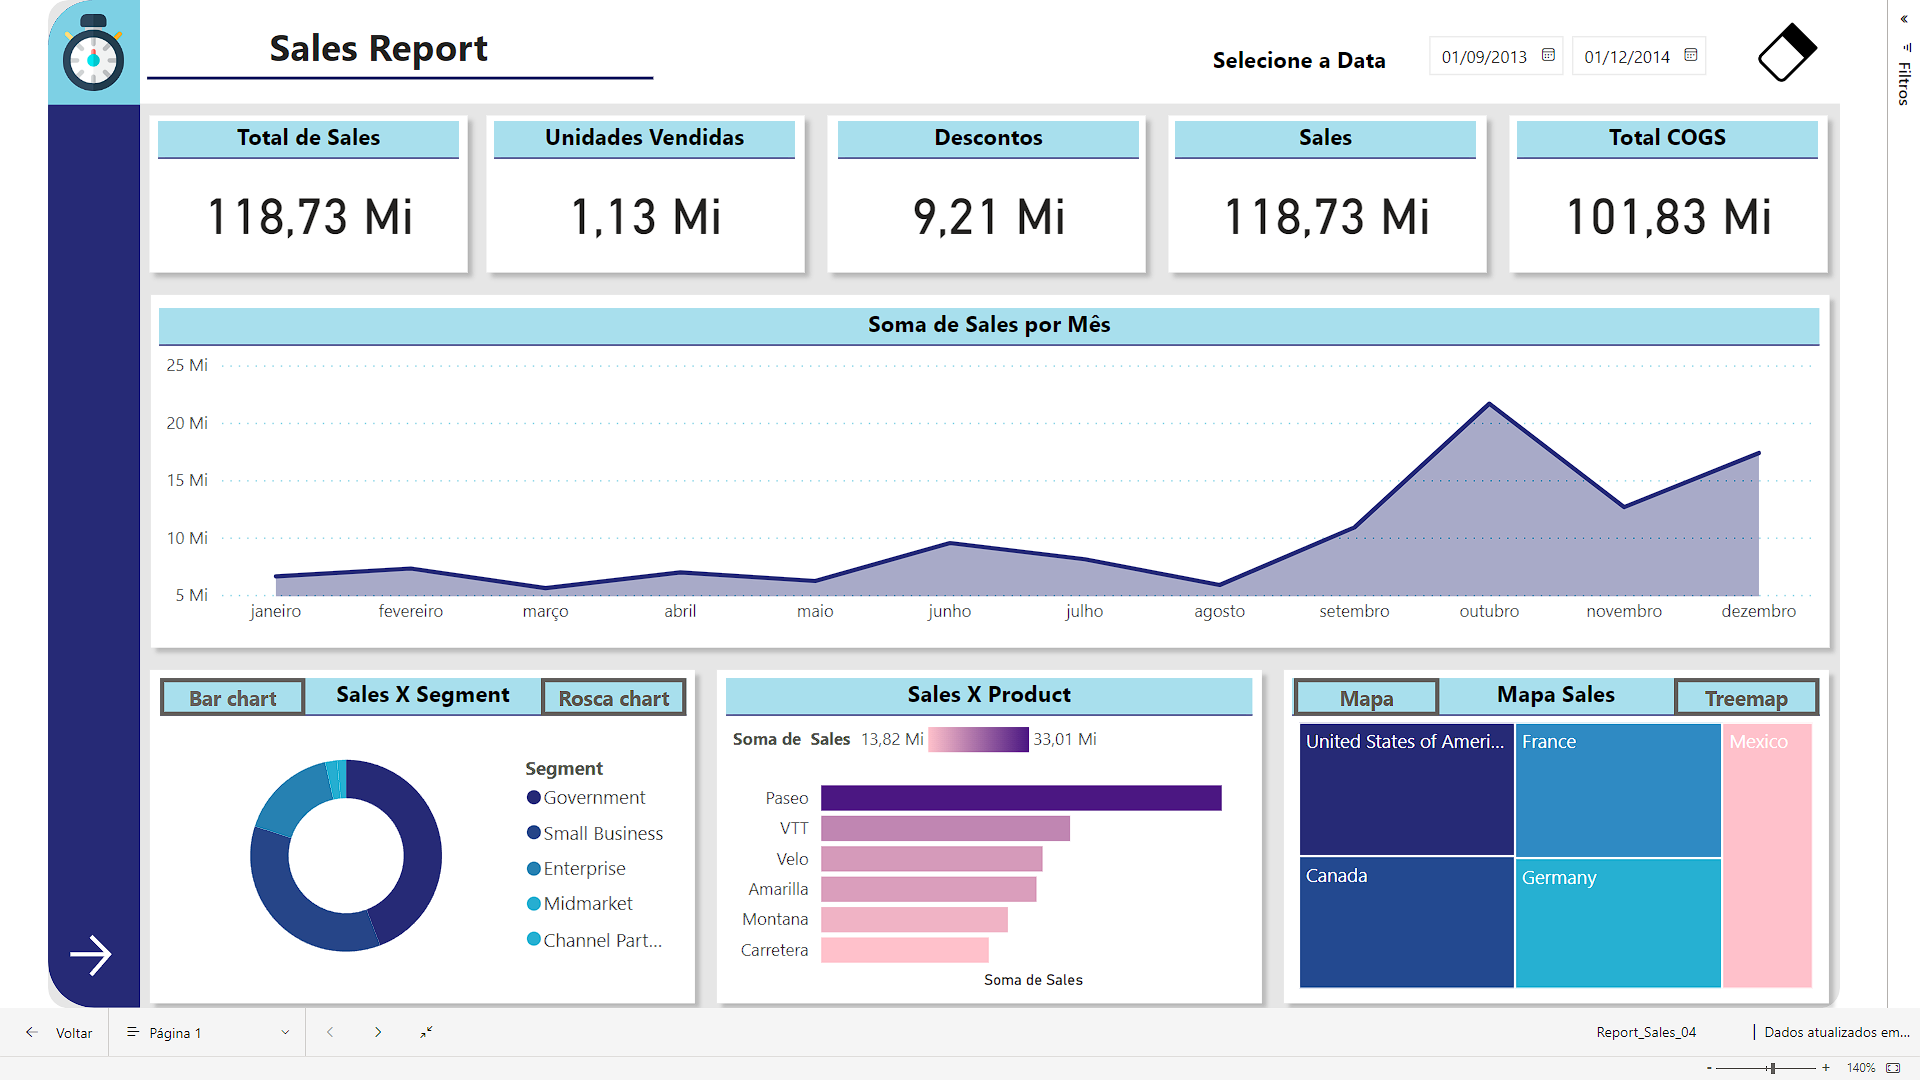

Layout of this report page (visuals, bound fields, positions):
{"tool":"powerbi","page":{"name":"Página 1","canvas":[1280,720],"ordinal":0},"visuals":[{"type":"shape","box":[0,0,1280,720.1],"z":0},{"type":"group","id":"g1","title":"Filtro data","box":[827.4,15.1,371.6,44.1],"z":0,"group":"g5"},{"type":"slicer","title":"Sales X Segment","fields":{"Values":["financials.Date"]},"box":[973.9,15.1,225.1,44.1],"z":0,"group":"g1"},{"type":"shape","box":[64.3,74.5,243.6,128.5],"z":0,"group":"g2"},{"type":"shape","box":[65.5,203.2,1214.5,267.5],"z":0,"group":"g4"},{"type":"shape","box":[65.4,471,404.9,253.6],"z":0,"group":"g3"},{"type":"clusteredBarChart","title":"Sales X Segment","fields":{"Y":["Sum(financials. Sales)"],"Category":["financials.Segment"]},"box":[80,484.5,376.3,226.5],"z":0,"group":"g6"},{"type":"shape","box":[0,0,65.9,719.9],"z":1000},{"type":"image","box":[1207.9,9,69.9,56.4],"z":1000,"group":"g5"},{"type":"textbox","box":[827.4,26,144.4,31.5],"z":1000,"group":"g1"},{"type":"shape","box":[304.7,74.5,243.6,128.5],"z":1000,"group":"g2"},{"type":"areaChart","fields":{"Category":["financials.Date.Variation.Hierarquia de datas.Mês"],"Y":["Sum(financials. Sales)"]},"box":[79,220,1186.4,233.9],"z":1000,"group":"g4"},{"type":"shape","box":[875.2,471,404.9,253.6],"z":1000,"group":"g3"},{"type":"treemap","title":"Mapa Sales","fields":{"Group":["financials.Country"],"Values":["Sum(financials. Sales)"]},"box":[888.3,484.2,377,226.9],"z":1000,"group":"g7"},{"type":"actionButton","title":"Botão-rosca","box":[352.2,484.2,103.8,27.1],"z":1250,"group":"g6"},{"type":"actionButton","title":"Botão-bar","box":[80.1,484.2,103.8,27.1],"z":1500,"group":"g6"},{"type":"actionButton","title":"Botão-mapa","box":[889.4,484.2,103.8,27.1],"z":1500,"group":"g7"},{"type":"shape","box":[0,0,65.9,74.9],"z":2000},{"type":"shape","box":[548.3,74.5,243.6,128.5],"z":2000,"group":"g2"},{"type":"shape","box":[470.3,471,404.9,253.6],"z":2000,"group":"g3"},{"type":"actionButton","title":"Botão-treemap","box":[1161.5,484.2,103.8,27.1],"z":2000,"group":"g7"},{"type":"image","box":[0,0,65.4,74.4],"z":3000},{"type":"shape","box":[791.8,74.5,243.6,128.5],"z":3000,"group":"g2"},{"type":"shape","box":[65.5,0,1214.5,74.5],"z":4000},{"type":"shape","box":[1035.4,74.5,243.6,128.5],"z":4000,"group":"g2"},{"type":"group","id":"g2","title":"Grupo 1","box":[64.3,74.5,1214.6,128.5],"z":5000,"group":"g8"},{"type":"shape","box":[71,50.6,361.7,10.1],"z":6000},{"type":"group","id":"g3","title":"Grupo 2","box":[65.4,471,1214.6,249],"z":7000},{"type":"card","title":"Total de Sales","fields":{"Values":["Sum(financials. Sales)"]},"box":[78.4,86.9,215.2,102.5],"z":8000,"group":"g8"},{"type":"card","title":"Unidades Vendidas","fields":{"Values":["Sum(financials.Units Sold)"]},"box":[318.4,86.9,215.2,102.5],"z":9000,"group":"g8"},{"type":"card","title":"Sales","fields":{"Values":["Sum(financials. Sales)"]},"box":[805.1,86.9,215.2,102.5],"z":10000,"group":"g8"},{"type":"card","title":"Descontos","fields":{"Values":["Sum(financials.Discounts)"]},"box":[564,86.9,215.2,102.5],"z":11000,"group":"g8"},{"type":"card","title":"Total COGS","fields":{"Values":["Sum(financials.COGS)"]},"box":[1049.6,86.9,215.2,102.5],"z":12000,"group":"g8"},{"type":"group","id":"g4","title":"Grupo 4","box":[65.5,203.2,1214.5,267.5],"z":13000},{"type":"clusteredBarChart","title":"Sales X Product","fields":{"Y":["Sum(financials. Sales)"],"Category":["financials.Product"]},"box":[484.5,484.5,376.3,226.5],"z":14000},{"type":"group","id":"g5","title":"Grupo 3","box":[827.4,9,450.4,56.4],"z":15000},{"type":"textbox","box":[71.1,9,329.6,55.3],"z":16000},{"type":"group","id":"g6","title":"Sales X segment","box":[80,484.2,376.3,226.9],"z":17000},{"type":"group","id":"g7","title":"Mapa de Sales","box":[888.3,484.2,377,226.9],"z":18000},{"type":"actionButton","title":"Botão-nextPage","box":[10.2,662.6,44,39.5],"z":19000},{"type":"group","id":"g8","title":"Grupo 5","box":[64.3,74.5,1215.7,128.7],"z":19001}]}

Visuals, with their boxes on the page's 1280x720 design canvas (x1, y1, x2, y2). These are canvas units, not pixel positions in the 1920x1080 screenshot, which may show the page scaled, cropped or inside an application window:
shape: {"x1": 0, "y1": 0, "x2": 1280, "y2": 720}
"Filtro data" group: {"x1": 827, "y1": 15, "x2": 1199, "y2": 59}
"Sales X Segment" slicer: {"x1": 974, "y1": 15, "x2": 1199, "y2": 59}
shape: {"x1": 64, "y1": 74, "x2": 308, "y2": 203}
shape: {"x1": 66, "y1": 203, "x2": 1280, "y2": 471}
shape: {"x1": 65, "y1": 471, "x2": 470, "y2": 725}
"Sales X Segment" clusteredBarChart: {"x1": 80, "y1": 484, "x2": 456, "y2": 711}
shape: {"x1": 0, "y1": 0, "x2": 66, "y2": 720}
image: {"x1": 1208, "y1": 9, "x2": 1278, "y2": 65}
textbox: {"x1": 827, "y1": 26, "x2": 972, "y2": 58}
shape: {"x1": 305, "y1": 74, "x2": 548, "y2": 203}
areaChart - financials.Date.Variation.Hierarquia de datas.Mês x Sum(financials. Sales): {"x1": 79, "y1": 220, "x2": 1265, "y2": 454}
shape: {"x1": 875, "y1": 471, "x2": 1280, "y2": 725}
"Mapa Sales" treemap: {"x1": 888, "y1": 484, "x2": 1265, "y2": 711}
"Botão-rosca" actionButton: {"x1": 352, "y1": 484, "x2": 456, "y2": 511}
"Botão-bar" actionButton: {"x1": 80, "y1": 484, "x2": 184, "y2": 511}
"Botão-mapa" actionButton: {"x1": 889, "y1": 484, "x2": 993, "y2": 511}
shape: {"x1": 0, "y1": 0, "x2": 66, "y2": 75}
shape: {"x1": 548, "y1": 74, "x2": 792, "y2": 203}
shape: {"x1": 470, "y1": 471, "x2": 875, "y2": 725}
"Botão-treemap" actionButton: {"x1": 1162, "y1": 484, "x2": 1265, "y2": 511}
image: {"x1": 0, "y1": 0, "x2": 65, "y2": 74}
shape: {"x1": 792, "y1": 74, "x2": 1035, "y2": 203}
shape: {"x1": 66, "y1": 0, "x2": 1280, "y2": 74}
shape: {"x1": 1035, "y1": 74, "x2": 1279, "y2": 203}
"Grupo 1" group: {"x1": 64, "y1": 74, "x2": 1279, "y2": 203}
shape: {"x1": 71, "y1": 51, "x2": 433, "y2": 61}
"Grupo 2" group: {"x1": 65, "y1": 471, "x2": 1280, "y2": 720}
"Total de Sales" card: {"x1": 78, "y1": 87, "x2": 294, "y2": 189}
"Unidades Vendidas" card: {"x1": 318, "y1": 87, "x2": 534, "y2": 189}
"Sales" card: {"x1": 805, "y1": 87, "x2": 1020, "y2": 189}
"Descontos" card: {"x1": 564, "y1": 87, "x2": 779, "y2": 189}
"Total COGS" card: {"x1": 1050, "y1": 87, "x2": 1265, "y2": 189}
"Grupo 4" group: {"x1": 66, "y1": 203, "x2": 1280, "y2": 471}
"Sales X Product" clusteredBarChart: {"x1": 484, "y1": 484, "x2": 861, "y2": 711}
"Grupo 3" group: {"x1": 827, "y1": 9, "x2": 1278, "y2": 65}
textbox: {"x1": 71, "y1": 9, "x2": 401, "y2": 64}
"Sales X segment" group: {"x1": 80, "y1": 484, "x2": 456, "y2": 711}
"Mapa de Sales" group: {"x1": 888, "y1": 484, "x2": 1265, "y2": 711}
"Botão-nextPage" actionButton: {"x1": 10, "y1": 663, "x2": 54, "y2": 702}
"Grupo 5" group: {"x1": 64, "y1": 74, "x2": 1280, "y2": 203}
